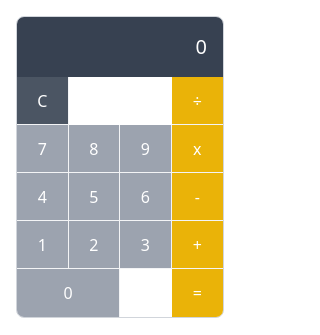
it: check that 2 + 3 === 5
The width and height of the screenshot is (320, 335).
Step 1. Click the button named "two" → (94, 245), box [68, 221, 120, 269]
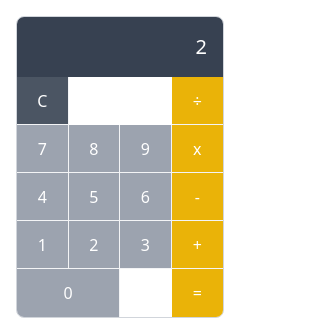
Step 2. Click the button named "plus" → (197, 245), box [172, 221, 223, 269]
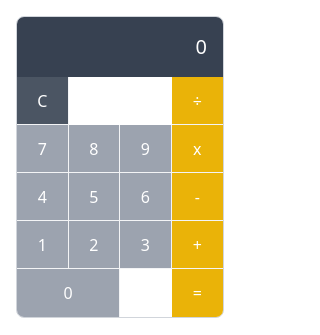
Step 3. Click the button named "three" → (146, 245), box [120, 221, 172, 269]
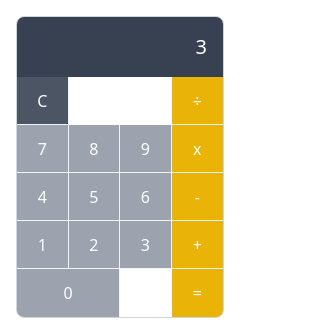
Step 4. Click the button named "equals" → (197, 293), box [172, 269, 223, 317]
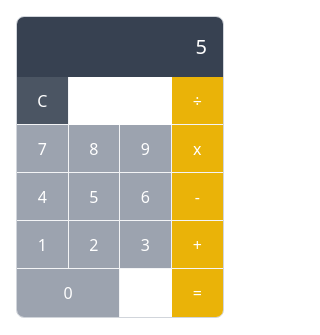
Expected: the text titled "answer" reads "5", [196, 33, 207, 60]
